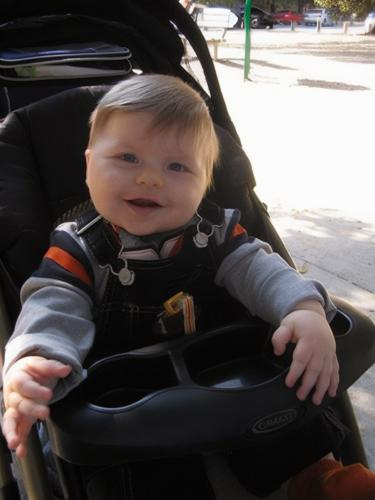car: (305, 8, 337, 27), (272, 10, 304, 26)
cat: (228, 1, 273, 29)
person: (1, 78, 372, 500)
person/foot: (300, 455, 375, 500)
person/hand: (3, 355, 74, 457), (271, 305, 342, 406)
person/head: (88, 78, 213, 233)
